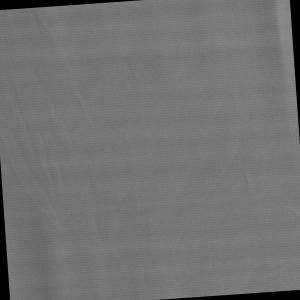Wrinkle: (1, 5, 104, 300)
